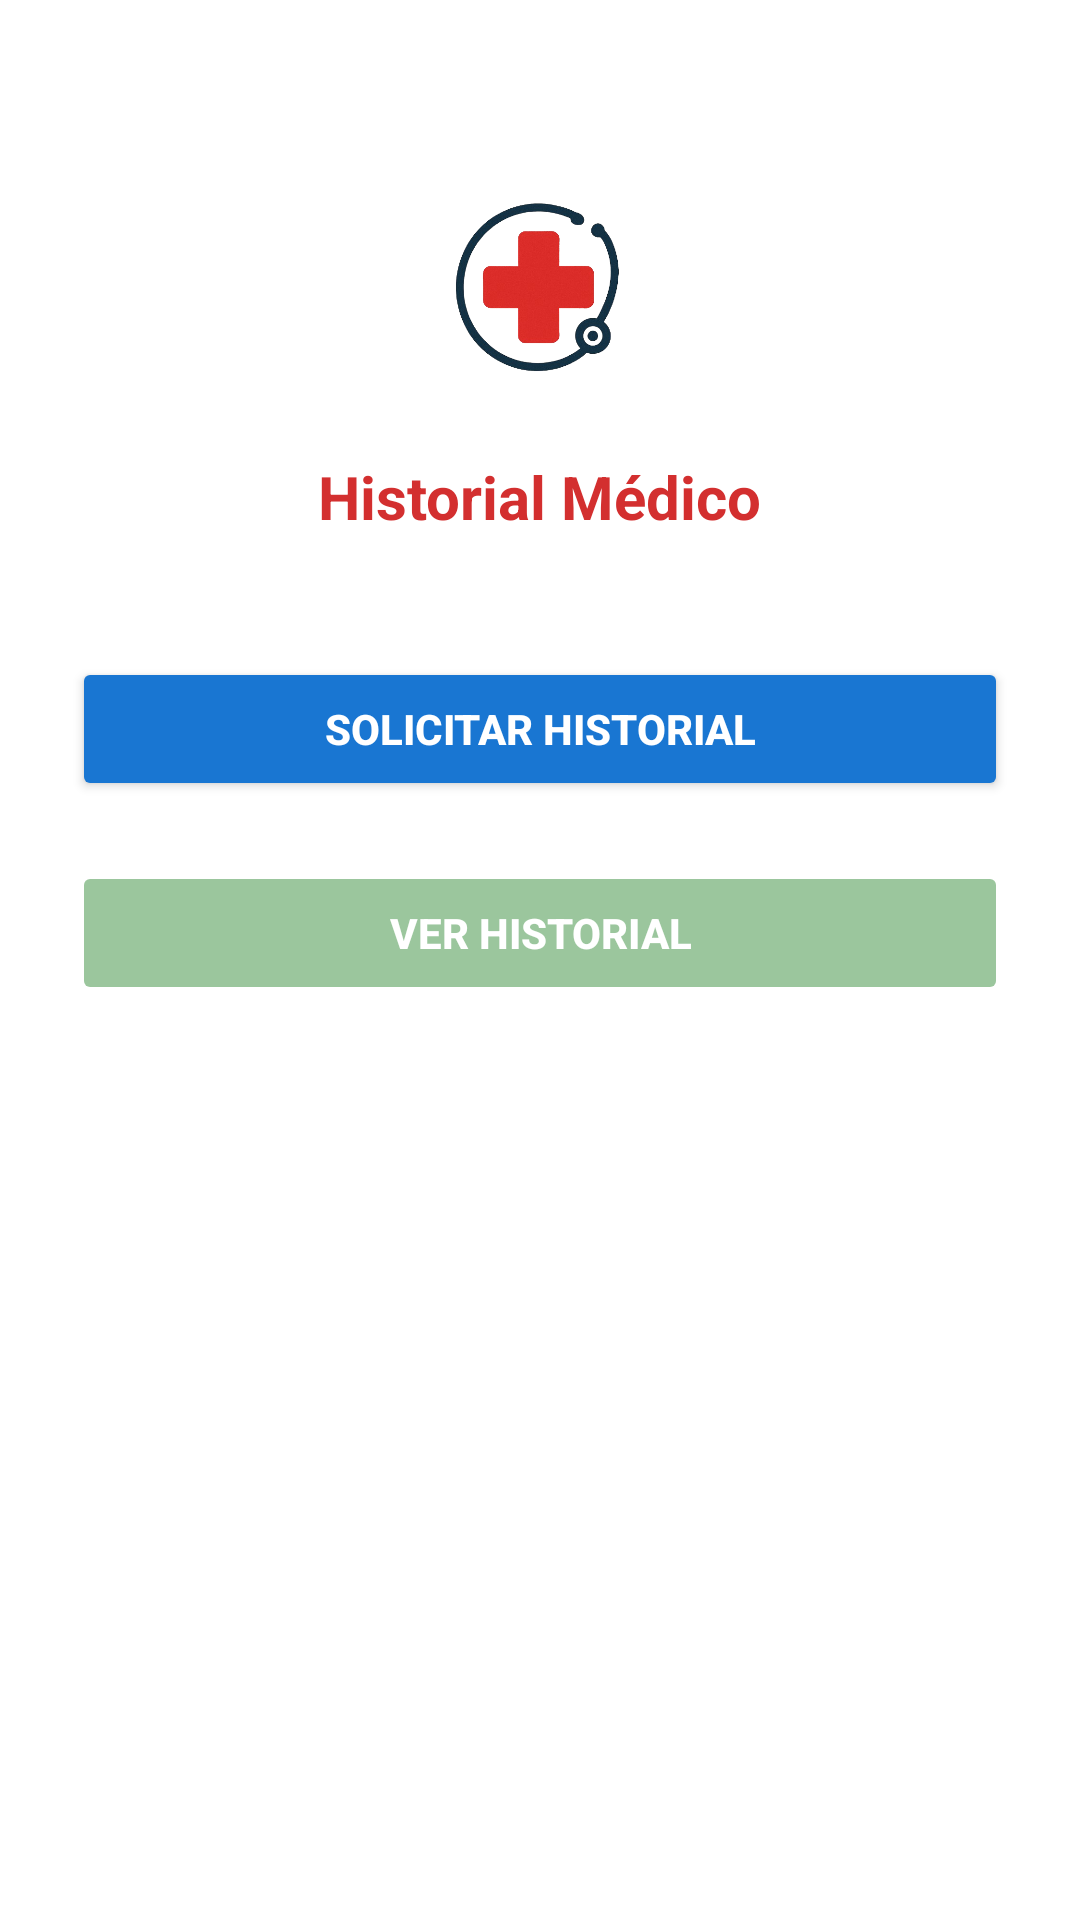

Named icons in this screenshot (1080px x 1920px) and their centers, (x=x, y=y):
cross: (x=537, y=287)
